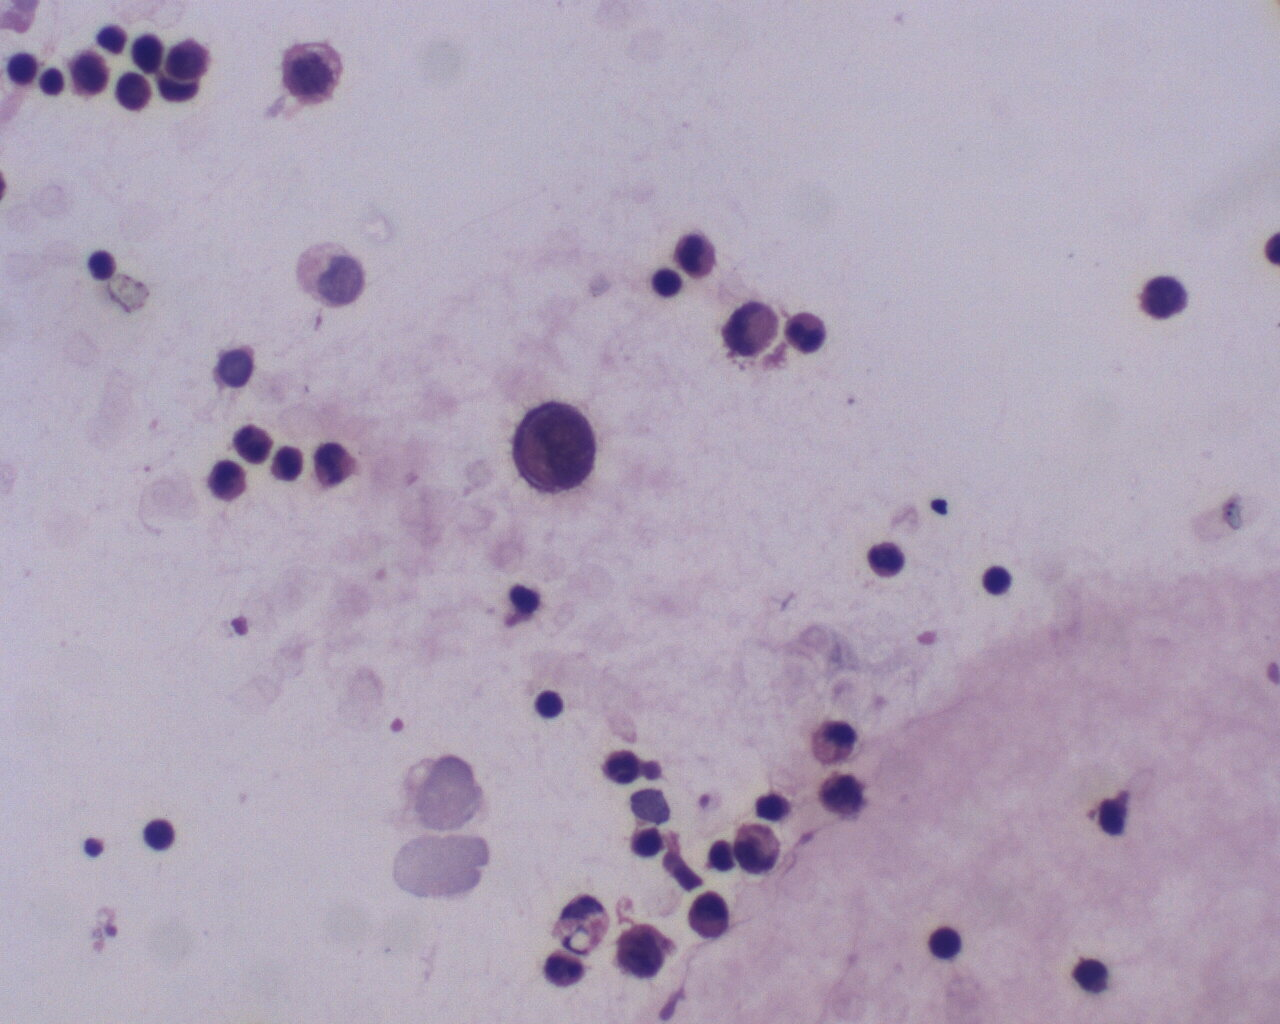ab: (509, 397, 601, 497)
lymph: (922, 912, 965, 965), (863, 537, 910, 584), (2, 45, 39, 93), (651, 260, 688, 303), (534, 683, 573, 720), (144, 816, 180, 853), (83, 246, 118, 282), (979, 564, 1016, 599)
neutro: (783, 300, 831, 354), (671, 228, 721, 278), (230, 417, 273, 466), (601, 745, 645, 785)
